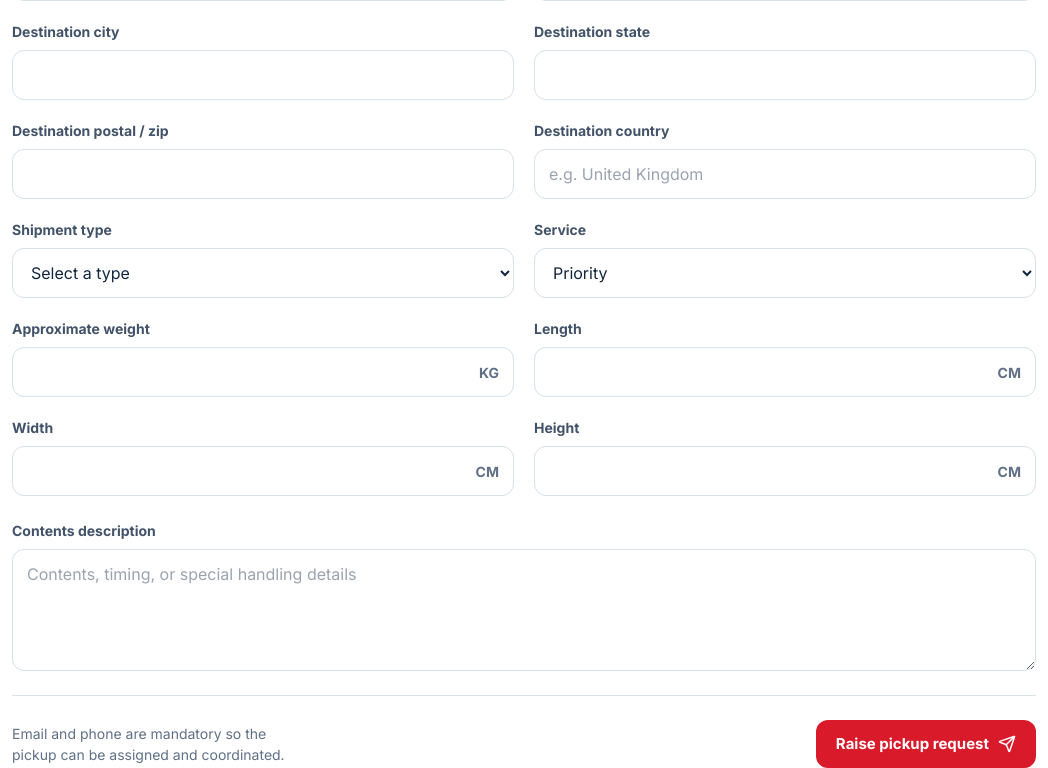
Scenario: QuoteForm › shows accessible validation errors
(page scrolled)
Click the button "Raise pickup request": point(926, 744) [816,720,1036,767]
(page scrolled)
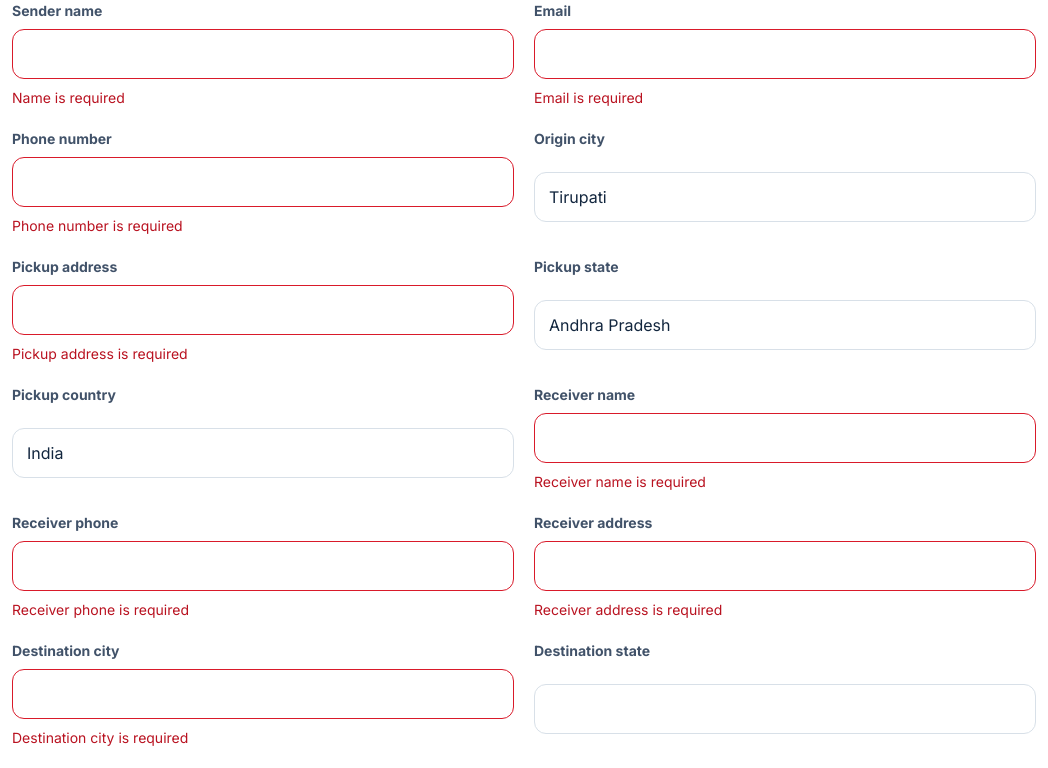
Result: the text "Name is required" is shown at [12,89,125,106]
